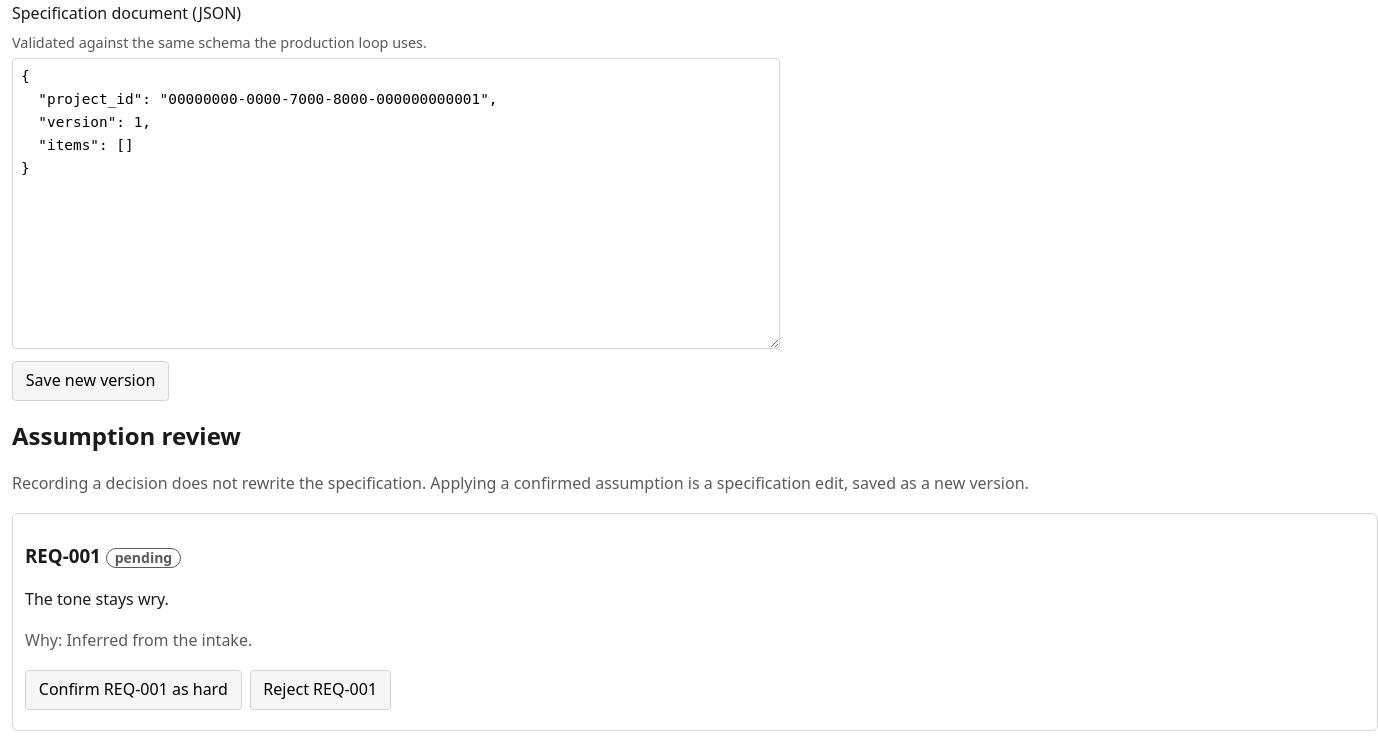
Test: story specification and assumptions › records an assumption decision and states that the spec was not rewritten
The image size is (1378, 747).
(page scrolled)
Expected: the text "Recording a decision does not rewrite the specification" is shown, x1=12 y1=472 x2=1029 y2=494
Click the button "Confirm REQ-001 as hard" at (133, 690), box x1=25 y1=670 x2=242 y2=710
(page scrolled)
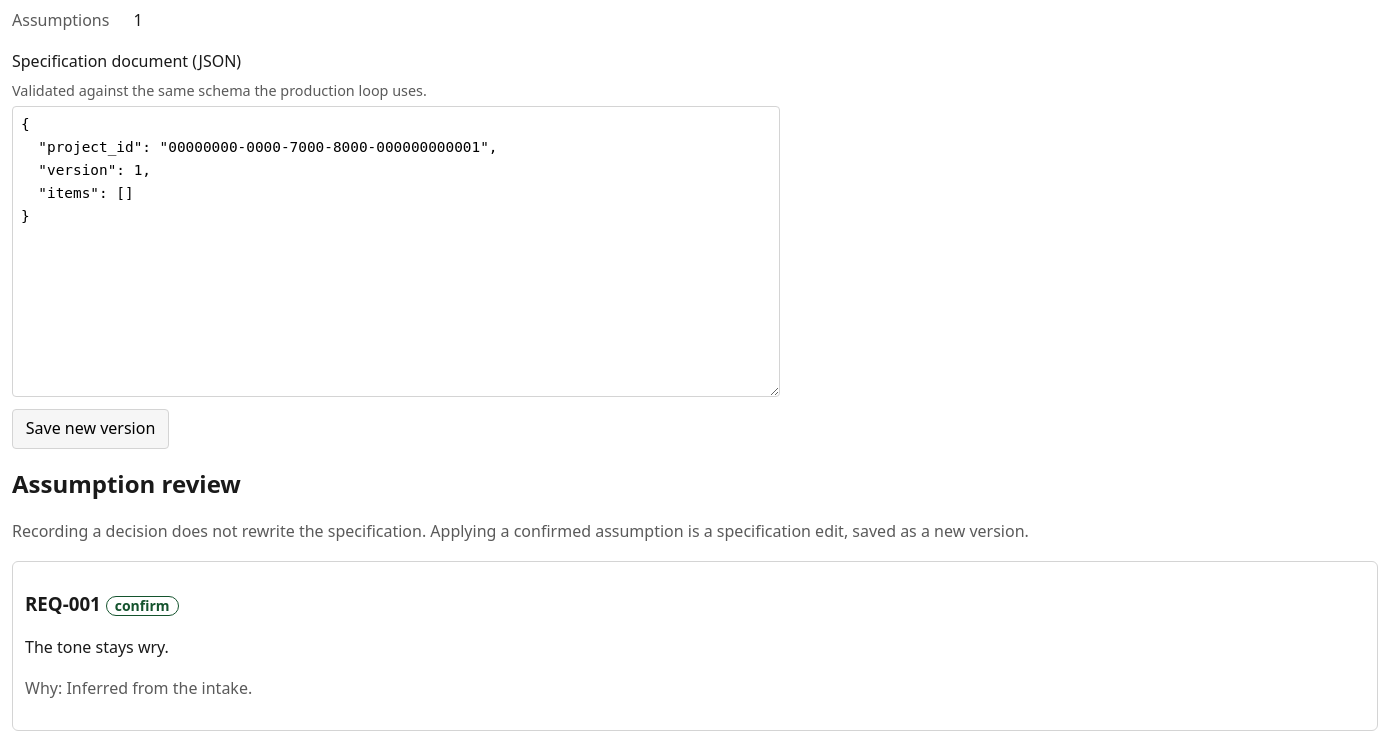
Result: the text "confirm" is shown at x1=115 y1=596 x2=170 y2=615
